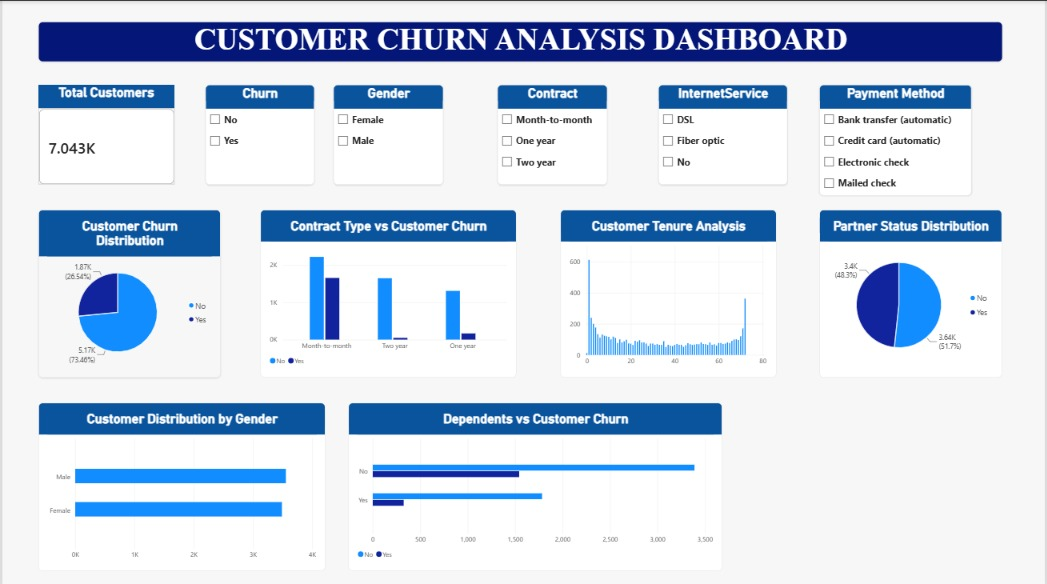

The dashboard page shown, as its layout file describes it:
{"tool":"powerbi","page":{"name":"Page 1","canvas":[1280,720],"ordinal":0},"visuals":[{"type":"pieChart","title":"Customer Churn Distribution","fields":{"Category":["Telco_Customer_Churn_Dataset  (2).Churn"],"Y":["CountNonNull(Telco_Customer_Churn_Dataset  (2).customerID)"]},"box":[809.8,105.5,408.6,189],"z":0},{"type":"clusteredBarChart","title":"Customer Distribution by Gender","fields":{"Category":["Telco_Customer_Churn_Dataset  (2).gender"],"Y":["CountNonNull(Telco_Customer_Churn_Dataset  (2).customerID)"]},"box":[812.3,316.6,408.6,189],"z":1000},{"type":"pieChart","title":"Partner Status Distribution","fields":{"Category":["Telco_Customer_Churn_Dataset  (2).Partner"],"Y":["CountNonNull(Telco_Customer_Churn_Dataset  (2).customerID)"]},"box":[300.6,316.6,446.6,189],"z":2000},{"type":"barChart","title":"Dependents vs Customer Churn","fields":{"Series":["Telco_Customer_Churn_Dataset  (2).Churn"],"Category":["Telco_Customer_Churn_Dataset  (2).Dependents"],"Y":["CountNonNull(Telco_Customer_Churn_Dataset  (2).customerID)"]},"box":[812.3,527.6,408.6,179.1],"z":3000},{"type":"clusteredColumnChart","title":"Customer Tenure Analysis","fields":{"Category":["Telco_Customer_Churn_Dataset  (2).tenure"],"Y":["CountNonNull(Telco_Customer_Churn_Dataset  (2).customerID)"]},"box":[300.6,105.5,446.6,195.1],"z":4000},{"type":"clusteredColumnChart","title":"Contract Type vs Customer Churn","fields":{"Category":["Telco_Customer_Churn_Dataset  (2).Contract"],"Y":["CountNonNull(Telco_Customer_Churn_Dataset  (2).customerID)"],"Series":["Telco_Customer_Churn_Dataset  (2).Churn"]},"box":[300.6,527.6,446.6,179.1],"z":5000},{"type":"slicer","title":"Gender","fields":{"Values":["Telco_Customer_Churn_Dataset  (2).gender"]},"box":[22.1,105.5,229.4,101.8],"z":6000},{"type":"slicer","title":"Contract","fields":{"Values":["Telco_Customer_Churn_Dataset  (2).Contract"]},"box":[22.1,234.4,229.4,125.2],"z":7000},{"type":"slicer","title":"InternetService","fields":{"Values":["Telco_Customer_Churn_Dataset  (2).InternetService"]},"box":[22.1,389,229.4,150.9],"z":8000},{"type":"slicer","title":"Payment Method","fields":{"Values":["Telco_Customer_Churn_Dataset  (2).PaymentMethod"]},"box":[22.1,555.8,229.4,150.9],"z":9000},{"type":"textbox","box":[138.1,14.9,988.9,69.7],"z":10000}]}

Visuals, with their boxes in screenshot pixels (x1, y1, x2, y2), scaled from the page's 1280x720 canvas onto the 1047x584 screenshot:
"Customer Churn Distribution" pieChart: (662,86,997,239)
"Customer Distribution by Gender" clusteredBarChart: (664,257,999,410)
"Partner Status Distribution" pieChart: (246,257,611,410)
"Dependents vs Customer Churn" barChart: (664,428,999,573)
"Customer Tenure Analysis" clusteredColumnChart: (246,86,611,244)
"Contract Type vs Customer Churn" clusteredColumnChart: (246,428,611,573)
"Gender" slicer: (18,86,206,168)
"Contract" slicer: (18,190,206,292)
"InternetService" slicer: (18,316,206,438)
"Payment Method" slicer: (18,451,206,573)
textbox: (113,12,922,69)
